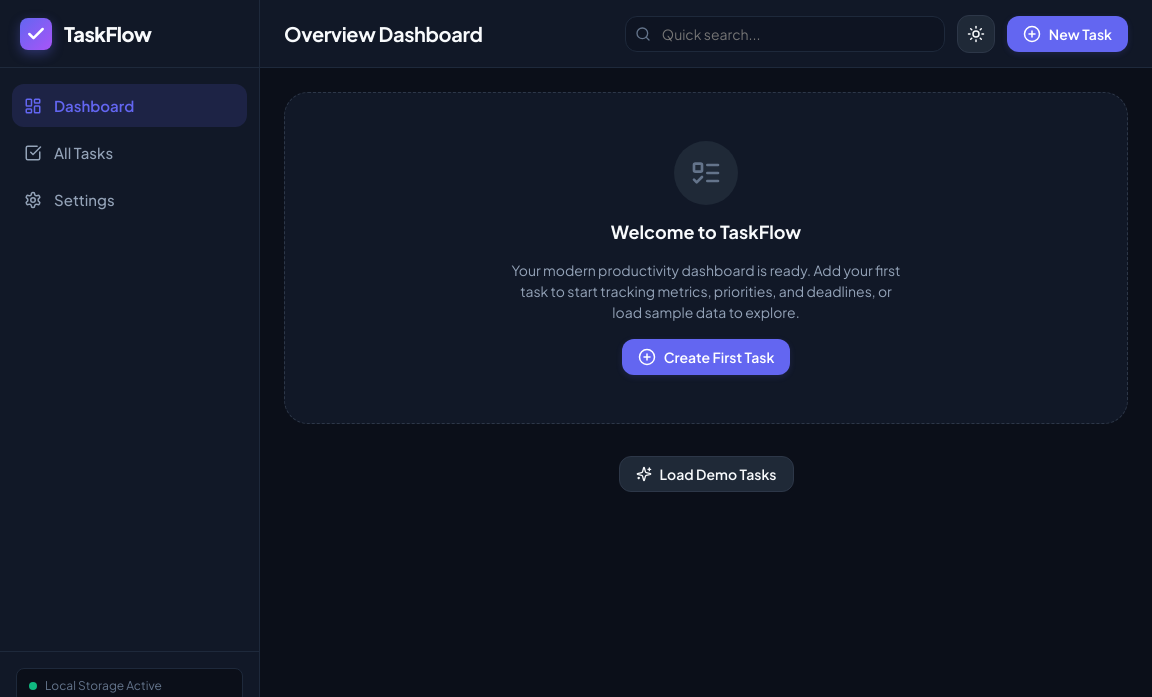
Scenario: TaskFlow Application Component Integration Tests › prompts confirmation on task deletion and cancels without deleting
The width and height of the screenshot is (1152, 697).
# Create task
Click the button "New Task" at [1067, 34], box 1007,16 -> 1128,52
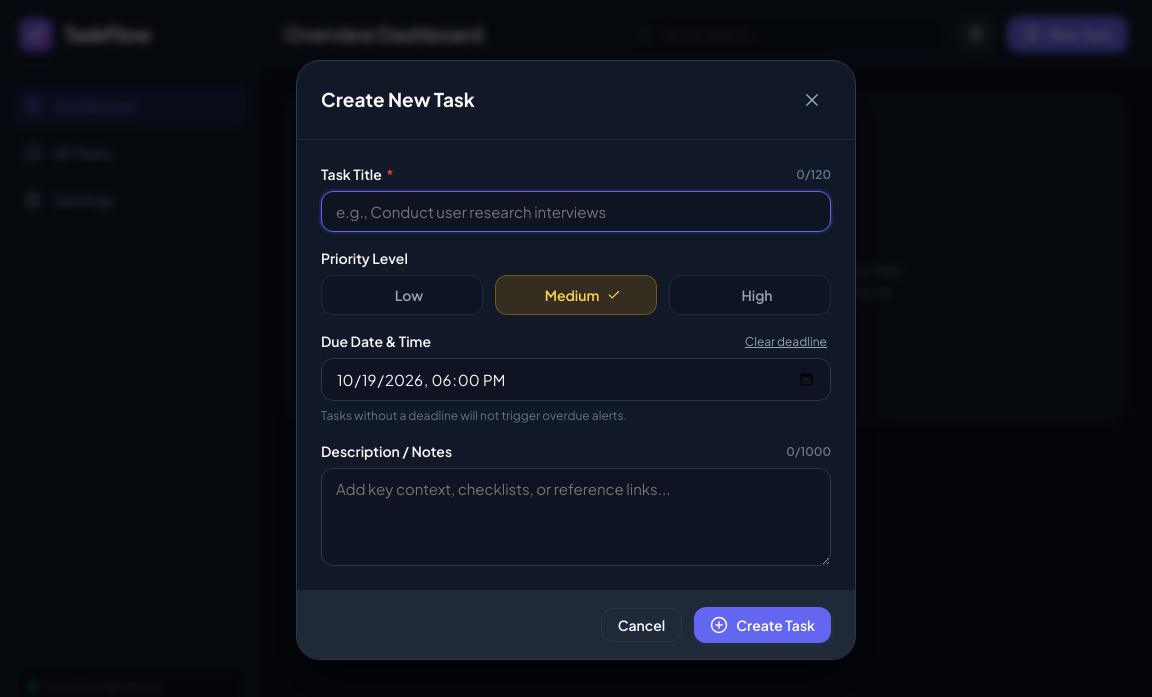
Type "Task to Keep" into the field labelled "Task Title * 0/120" at [576, 212], box 321,191 -> 831,232
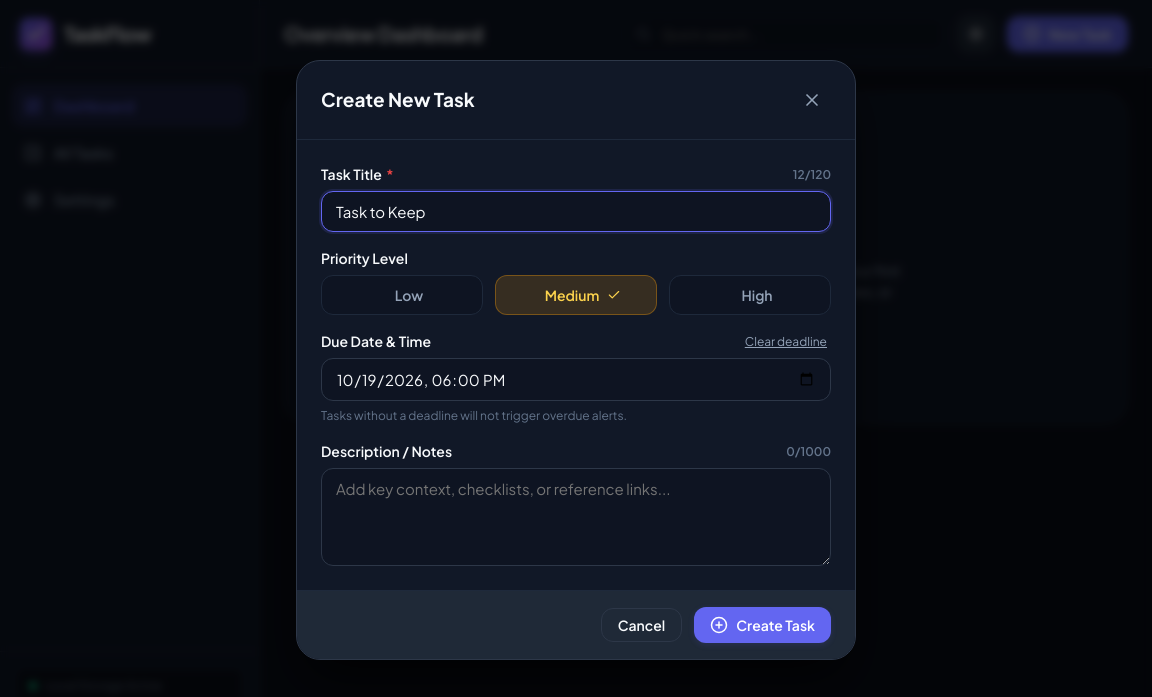
Click the button "Create Task" at [763, 625], box 694,607 -> 831,643
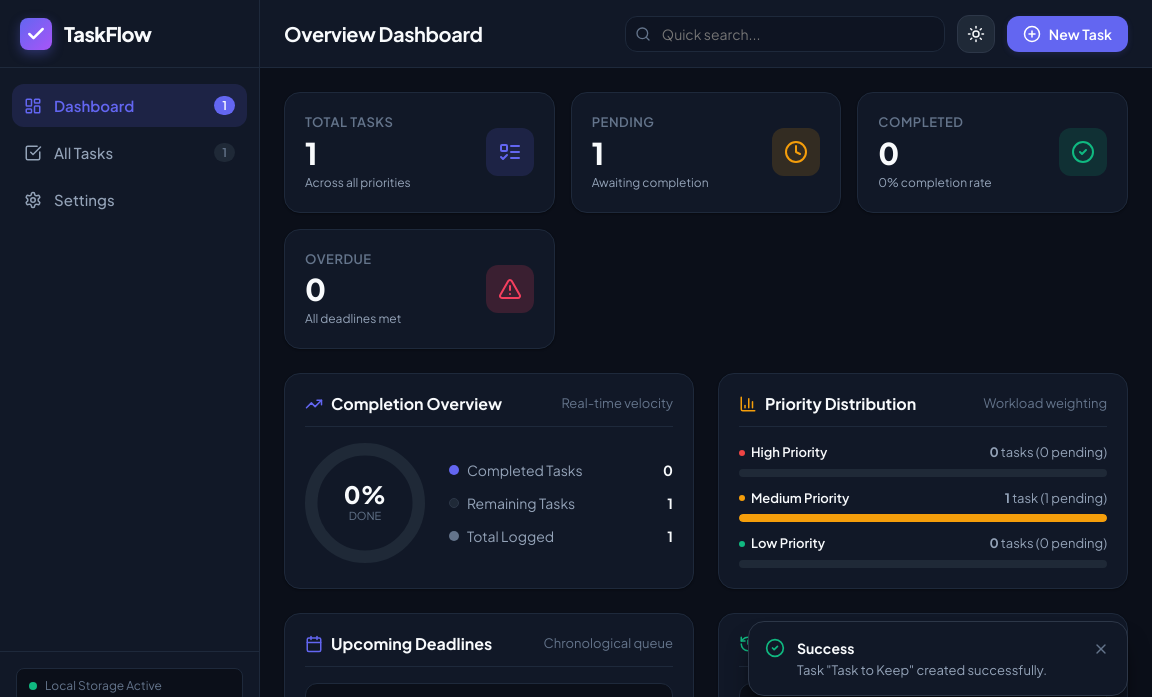
Expected: the dialog is gone
Click the button "All Tasks 1" at [130, 152], box 12,131 -> 247,174
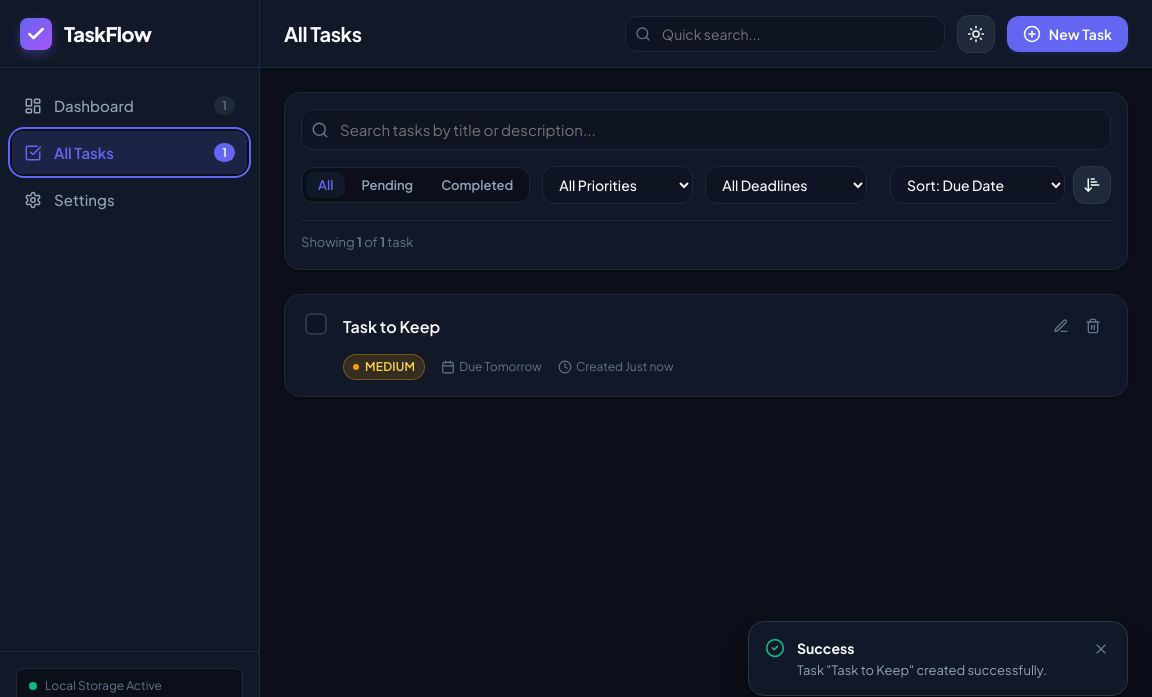
# Click Delete button
Click the button named "delete task \"task to keep\"" at [1093, 327], box 1079,310 -> 1107,344
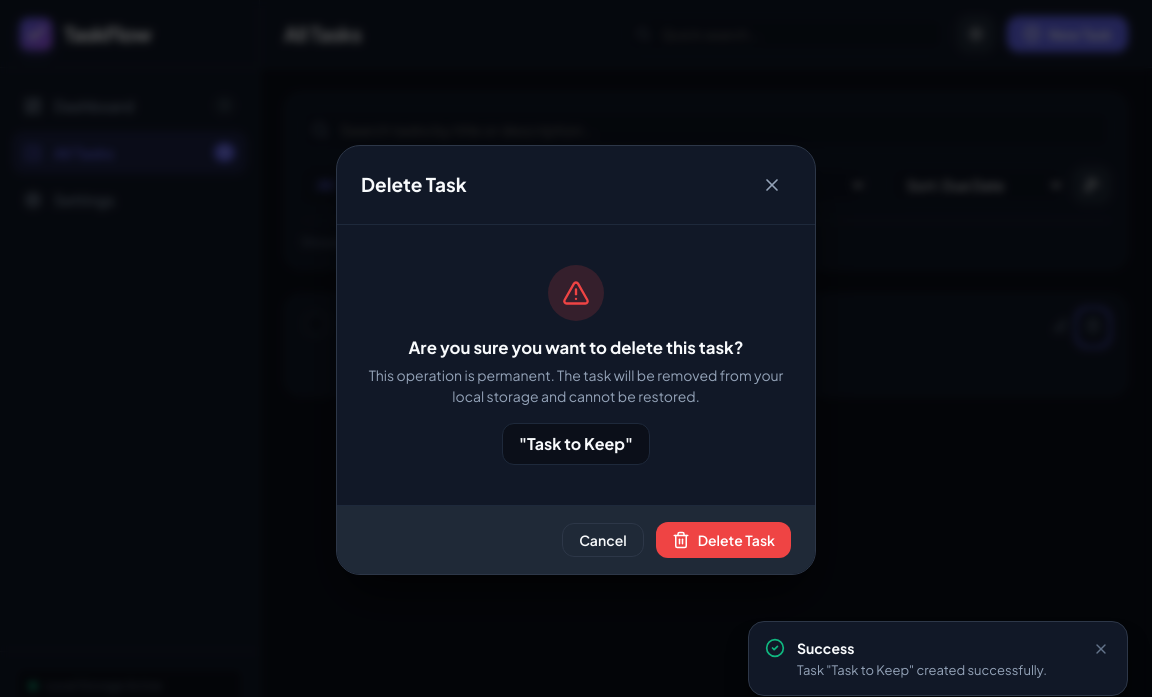
Expected: the dialog "Delete Task" is shown, 336,144 -> 816,576
Expected: the text "\"Task to Keep\"" is shown, 502,424 -> 650,466
# Click Cancel
Click the button "Cancel" at [603, 540], box 562,524 -> 644,558
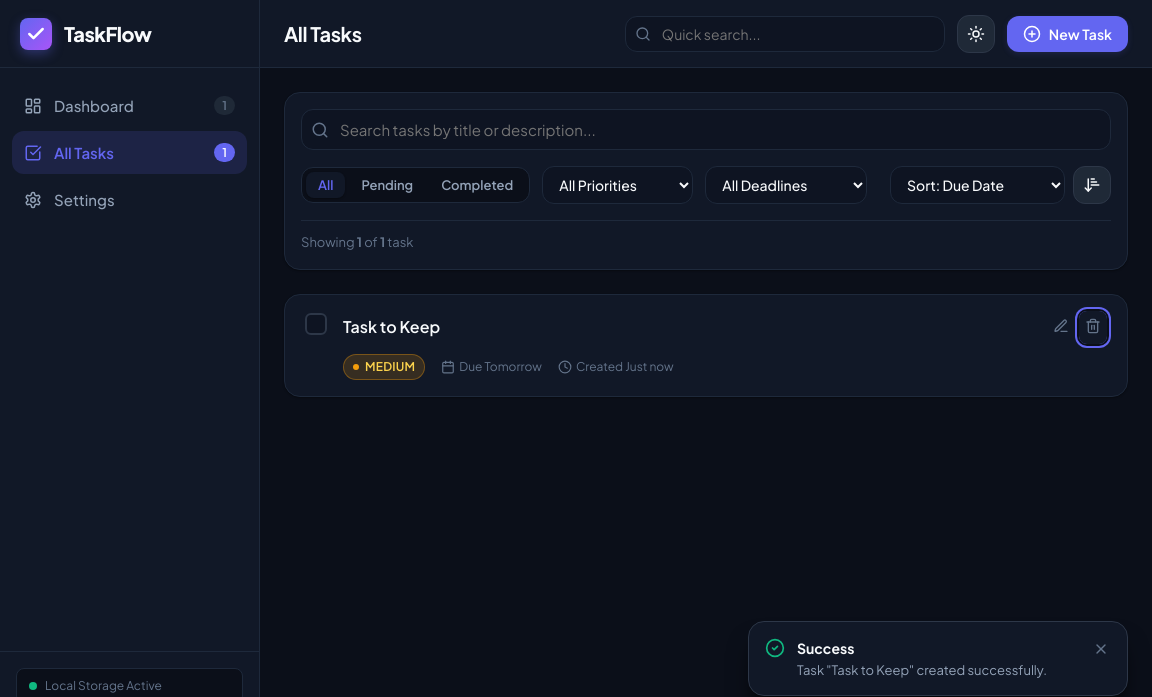
Expected: the heading "Task to Keep" is shown, 343,317 -> 440,337
Expected: the dialog is gone
